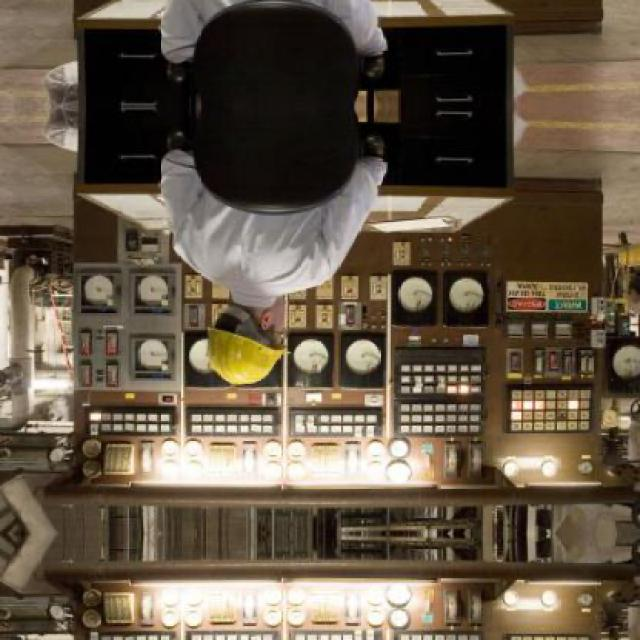con casco: (197, 220, 309, 392)
